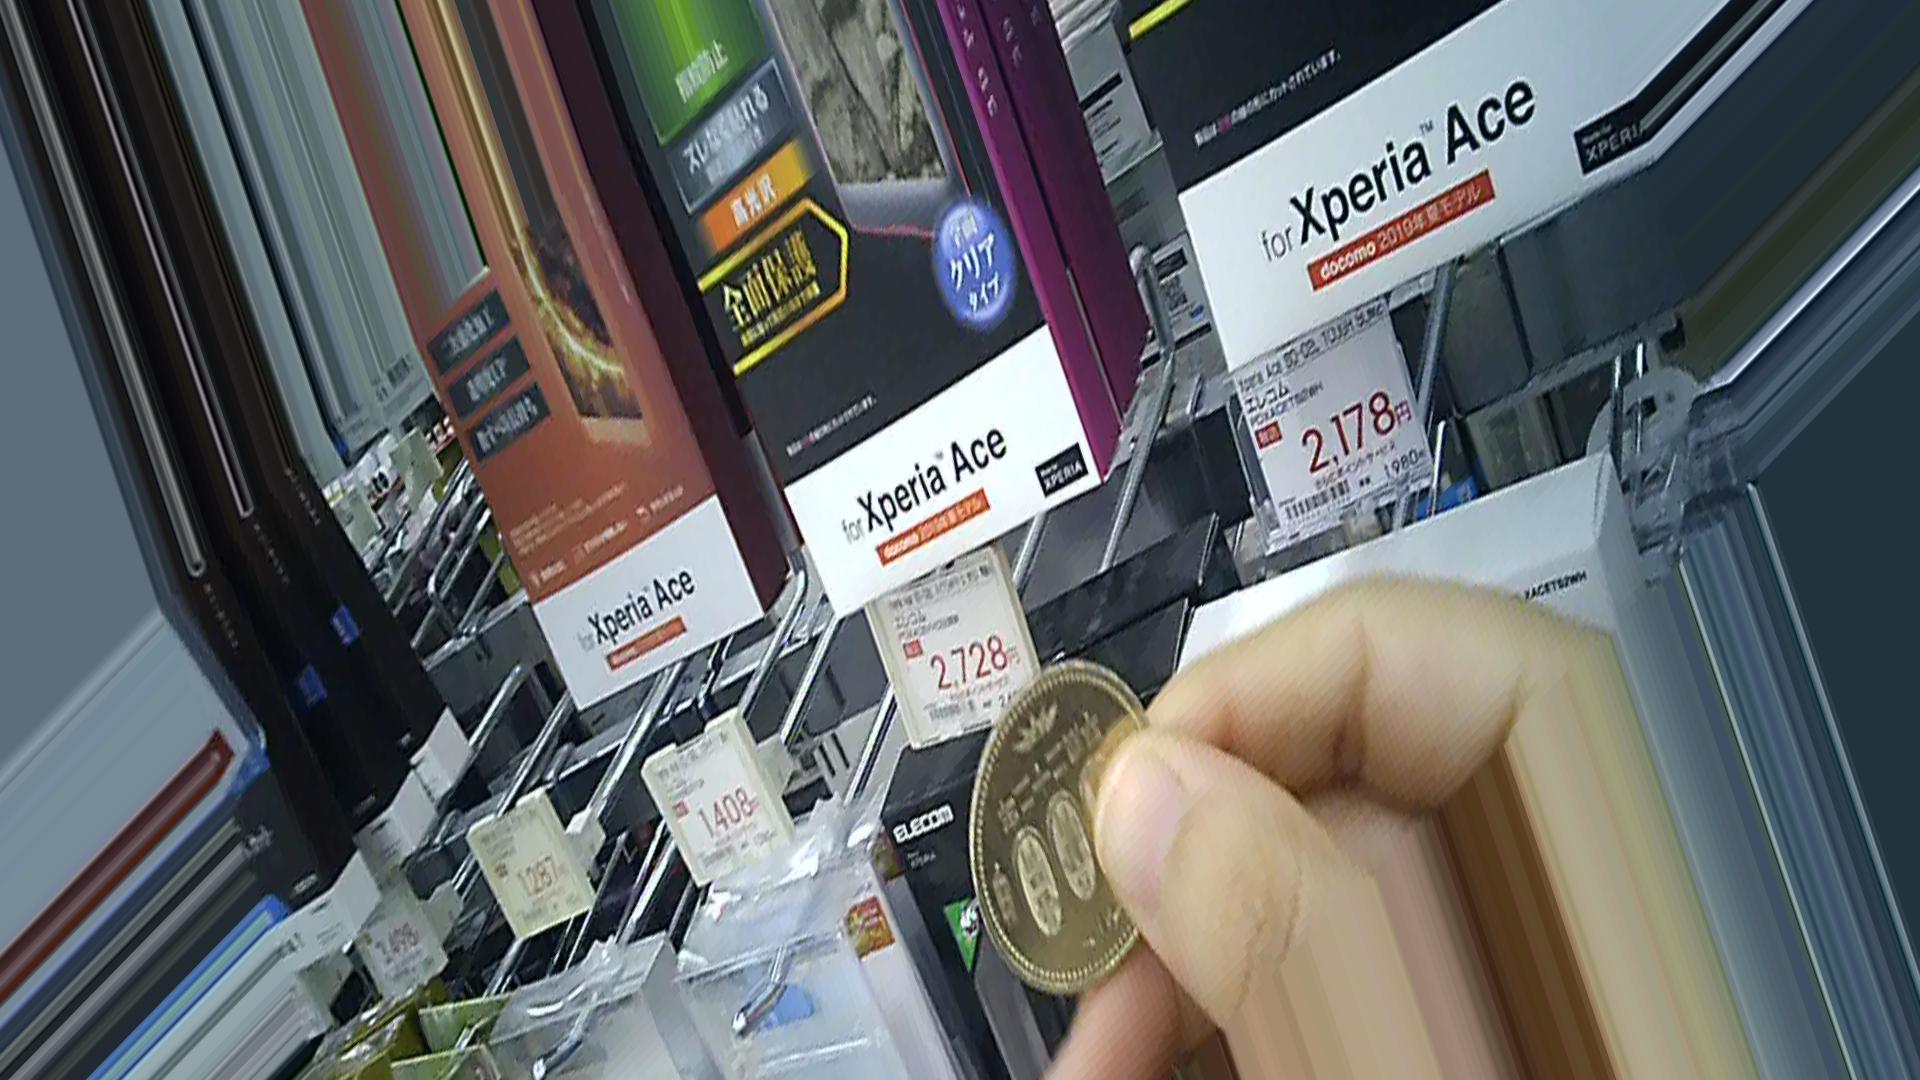500 Yen: (971, 657, 1160, 996)
